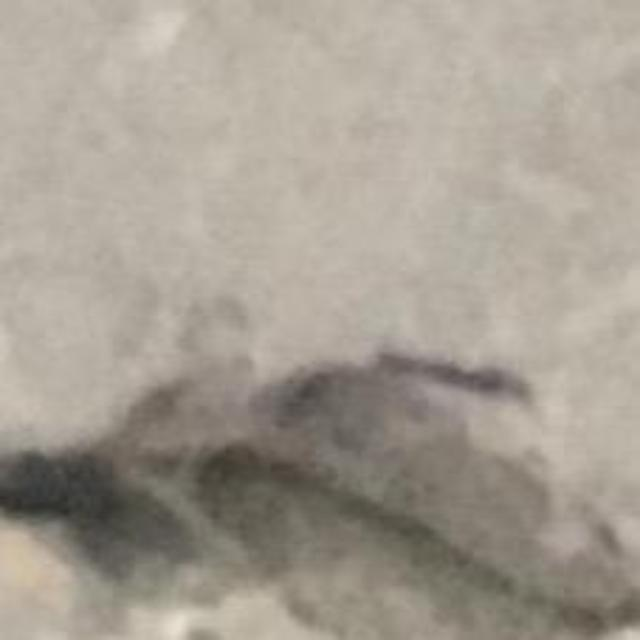crack: (0, 353, 639, 628)
